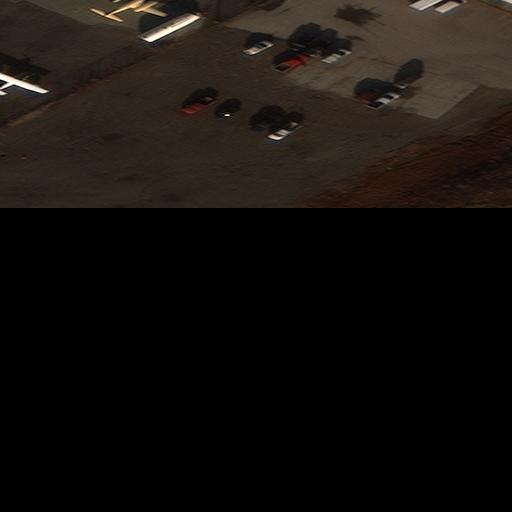Small Civil Transport: (0, 69, 49, 93), (101, 0, 168, 16)
